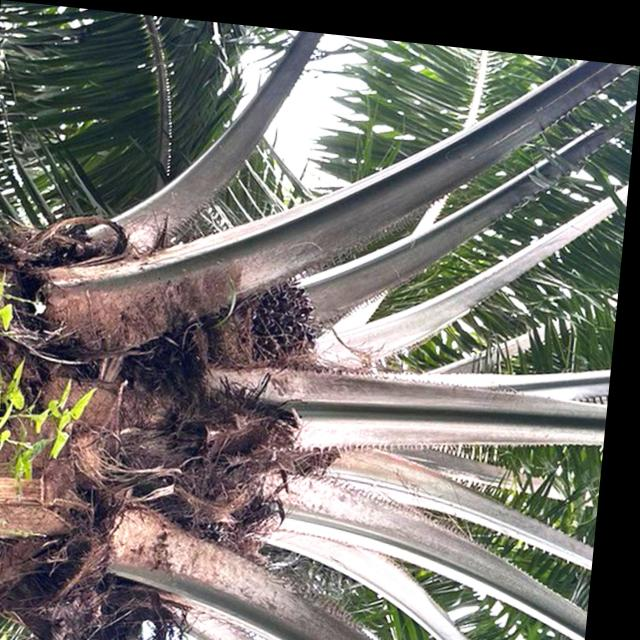almost: (239, 258, 338, 374)
